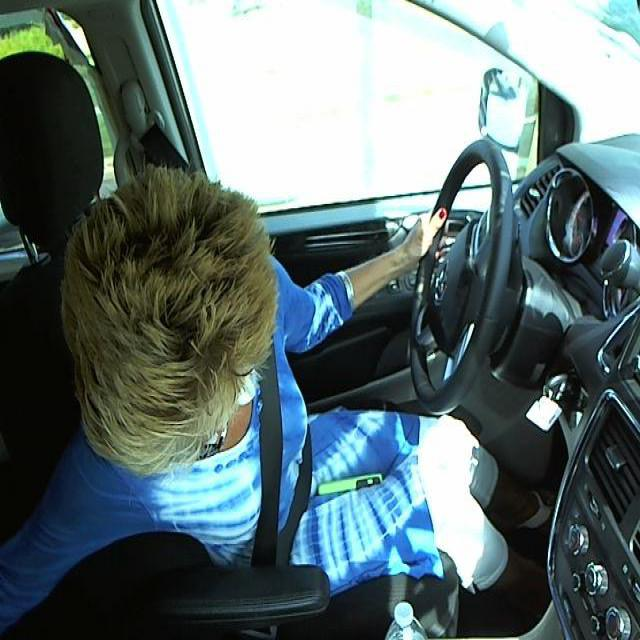seatbelt: (250, 348, 322, 571)
